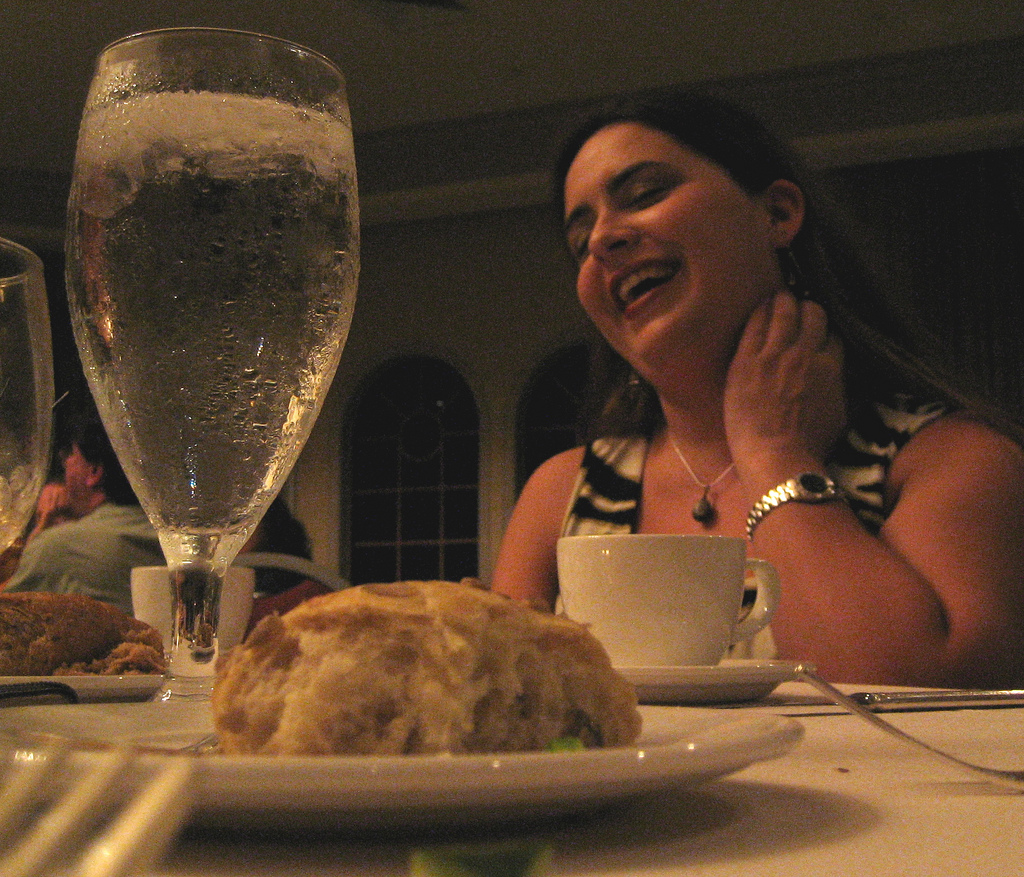slice of bread: (209, 594, 657, 766)
